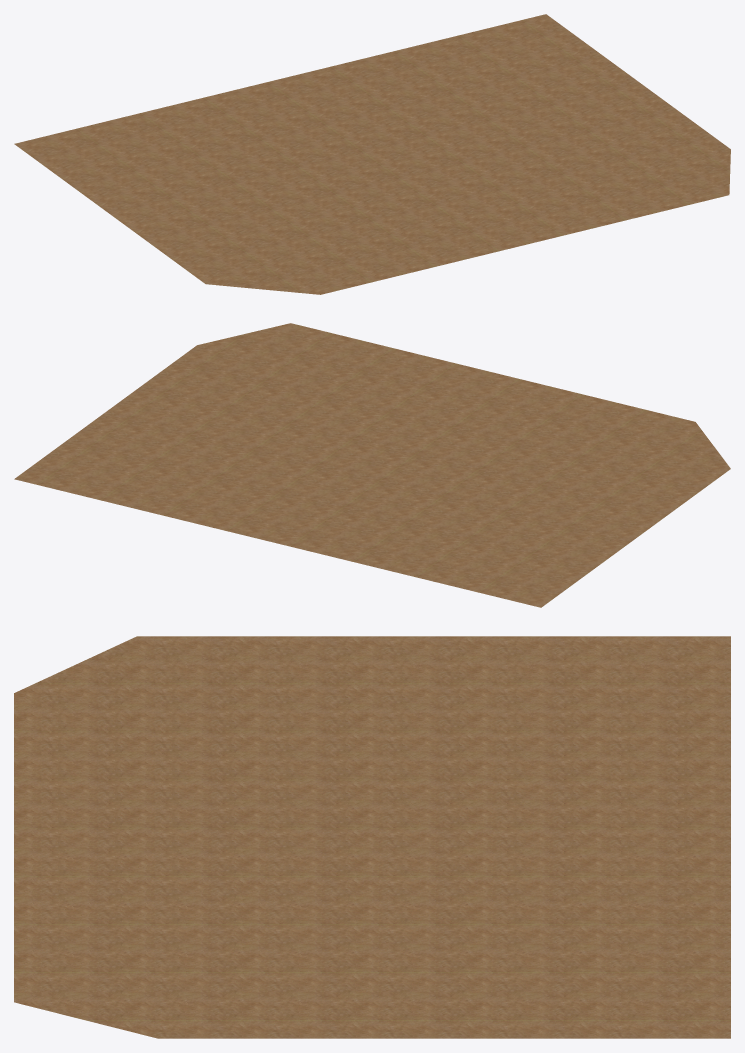
The model's file is guchengqishituan_qiangzhuan_01.FBX.
The picture shows the model from 3 angles, top to bottom: view 1: azimuth 30°, elevation 25°; view 2: azimuth 150°, elevation 25°; view 3: azimuth 270°, elevation 25°; orthographic projection. The views are drawn at different scales.
Visible parts, largest first — view 1: guchengqishituan_qiangzhuan_1; view 2: guchengqishituan_qiangzhuan_1; view 3: guchengqishituan_qiangzhuan_1.
Part boxes in pixels (box(x1,y1,x2,y2)): guchengqishituan_qiangzhuan_1: box(14, 14, 730, 294); guchengqishituan_qiangzhuan_1: box(14, 323, 730, 607); guchengqishituan_qiangzhuan_1: box(14, 636, 730, 1038).
Size of the model in its own units: 3233 by 0.000106 by 2435.
